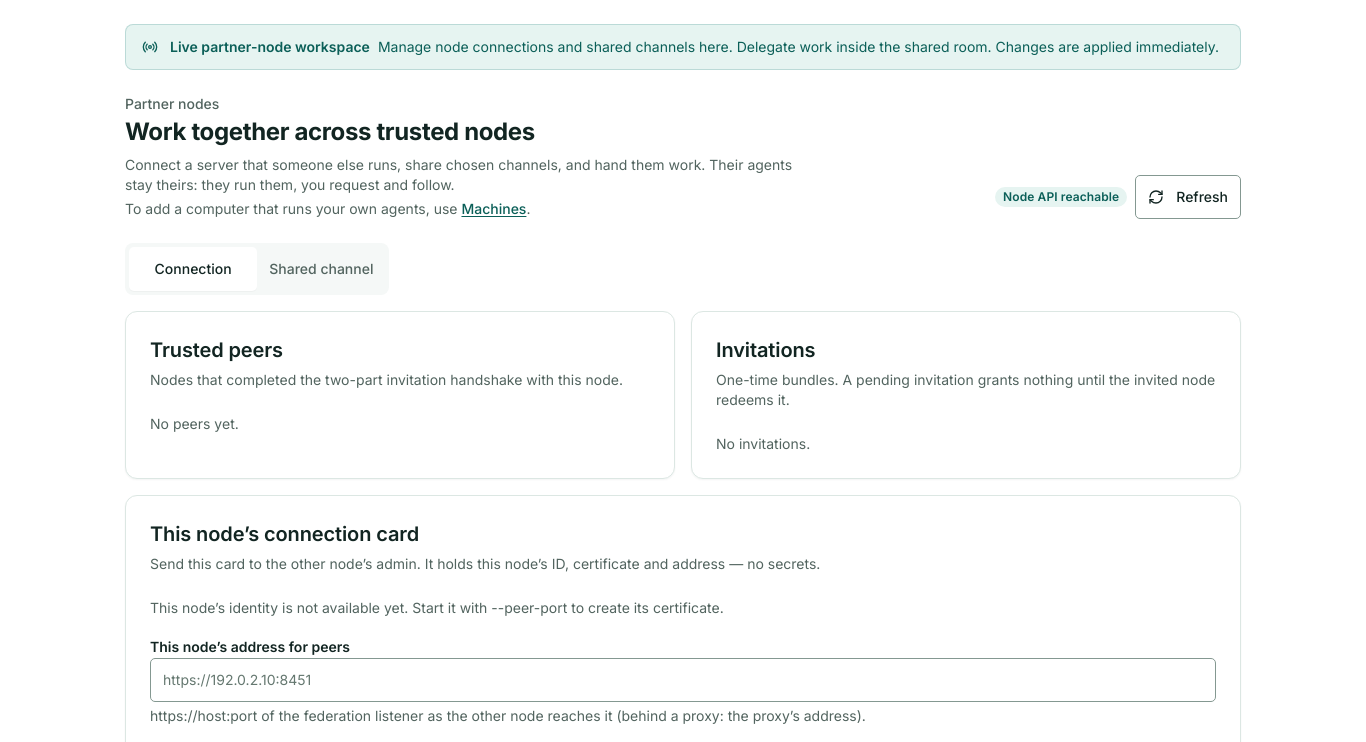
Test case: FederationLiveWorkspace › renders roster with tombstone badges and revision fences
The width and height of the screenshot is (1366, 742).
Press the mouse on the tab "Shared channel" at coordinates (321, 269), box [257, 247, 385, 291]
(page scrolled)
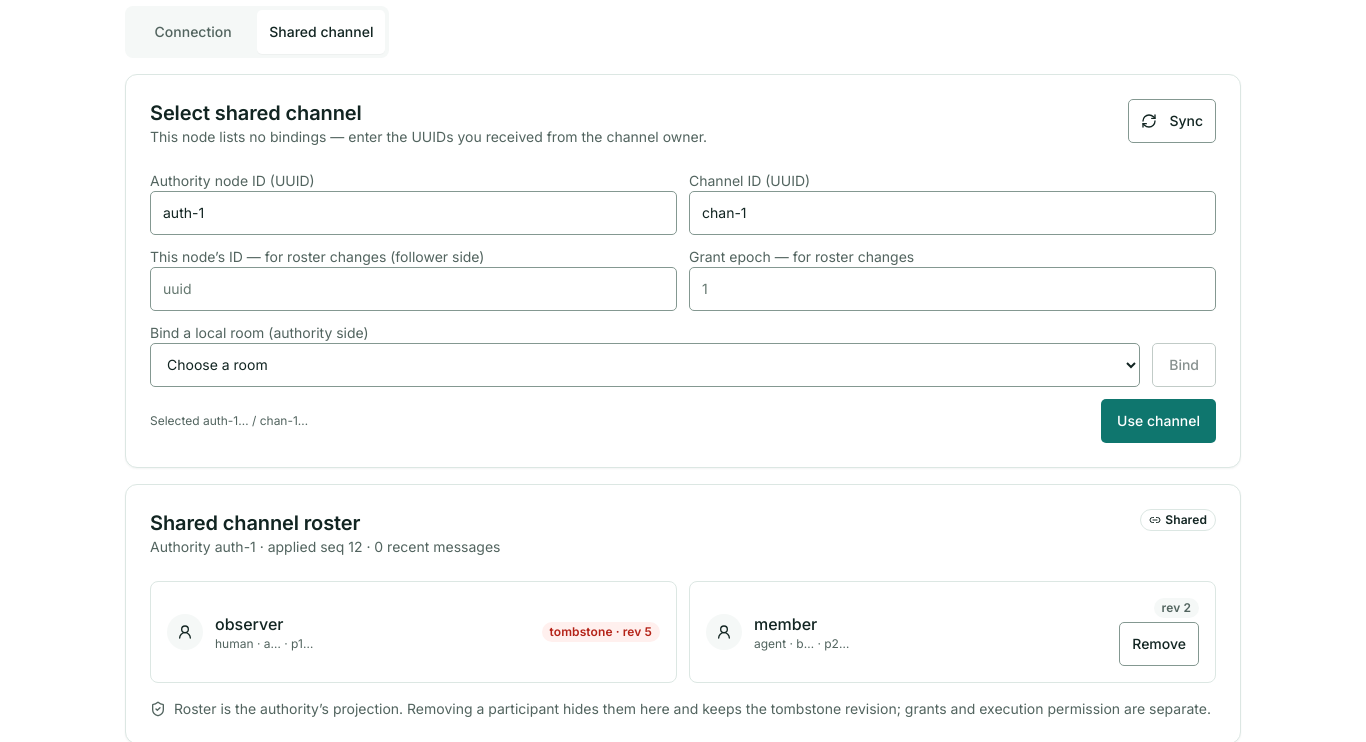
expect the text "tombstone · rev 5" is shown: met, box [542, 622, 660, 642]
expect the text "rev 2" is shown: met, box [1154, 598, 1199, 618]
expect the text "Authority auth-1 · applied seq 12 · 0 recent messages" is shown: met, box [150, 537, 500, 557]
